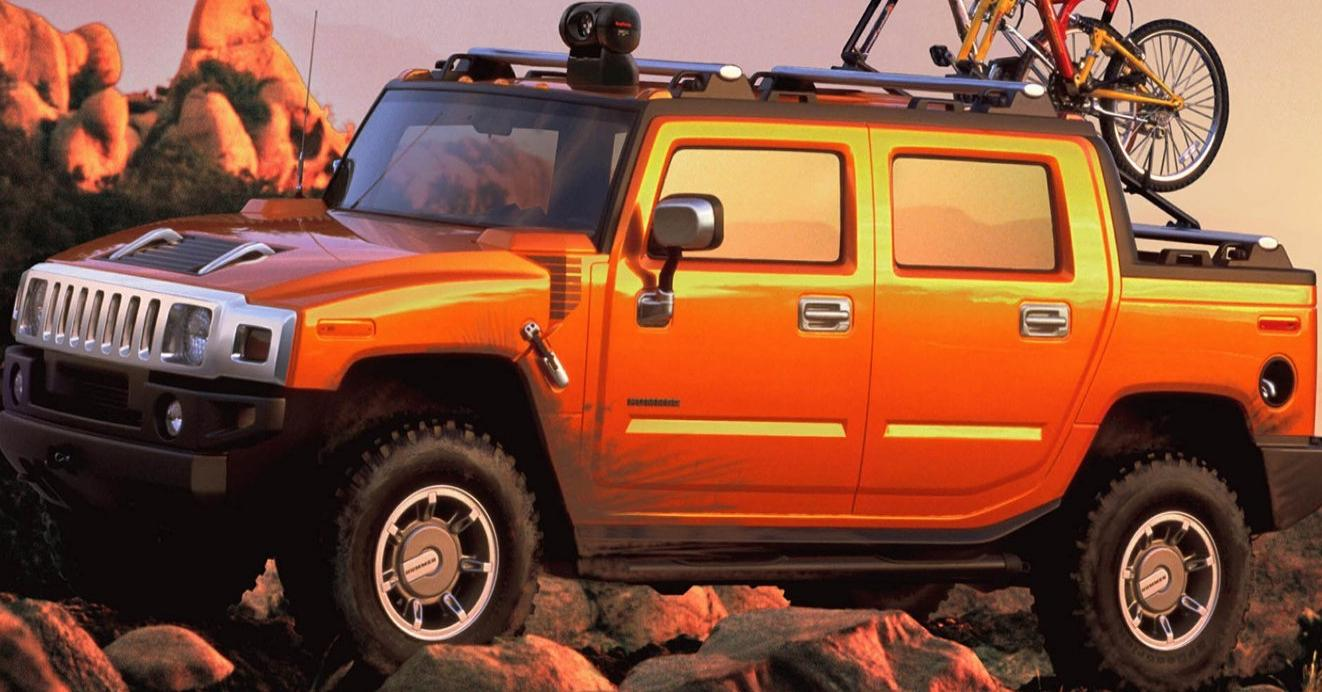front_view: (20, 235, 338, 603)
headlight: (148, 299, 350, 410)
side_glass: (647, 111, 1107, 301)
